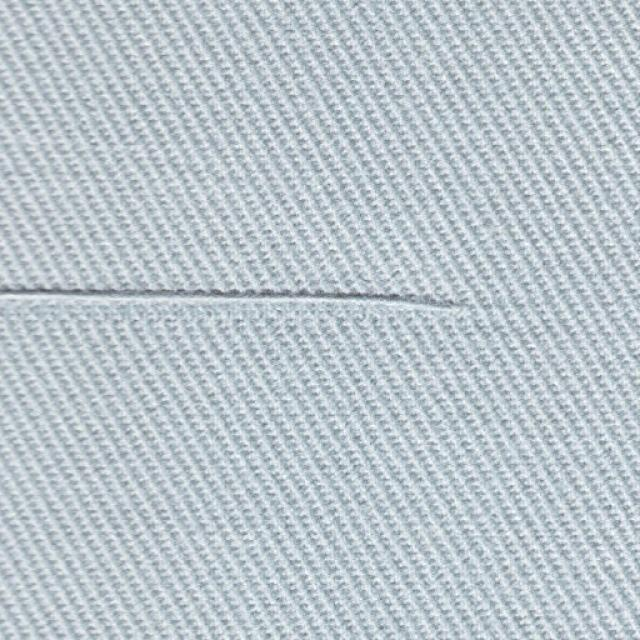stains: (0, 248, 501, 366)
